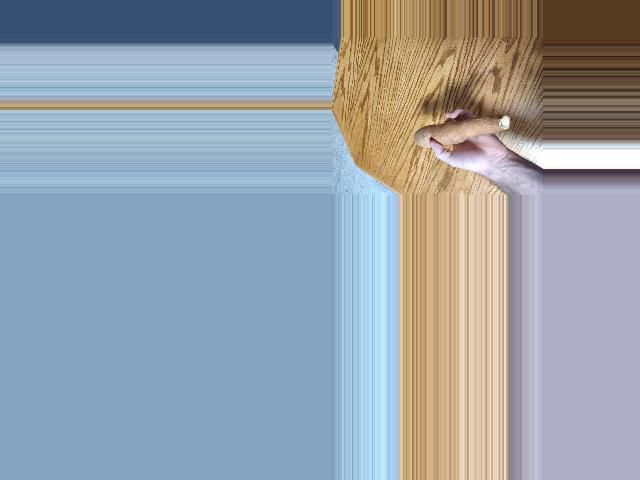sweet_potato: (410, 113, 518, 143)
